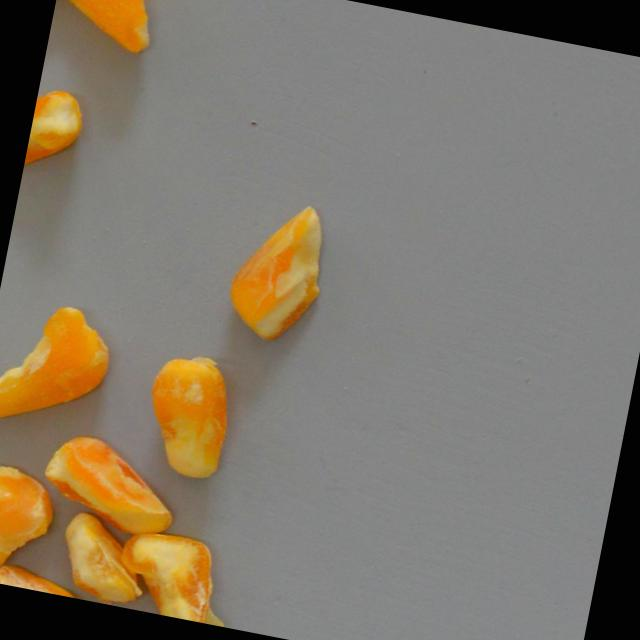pelicula: (219, 192, 342, 354), (0, 292, 122, 441), (35, 429, 184, 541), (133, 348, 245, 485), (116, 523, 243, 628), (53, 508, 158, 611), (0, 461, 65, 580), (51, 0, 163, 57), (23, 86, 89, 182), (0, 564, 83, 599), (54, 0, 97, 18)
